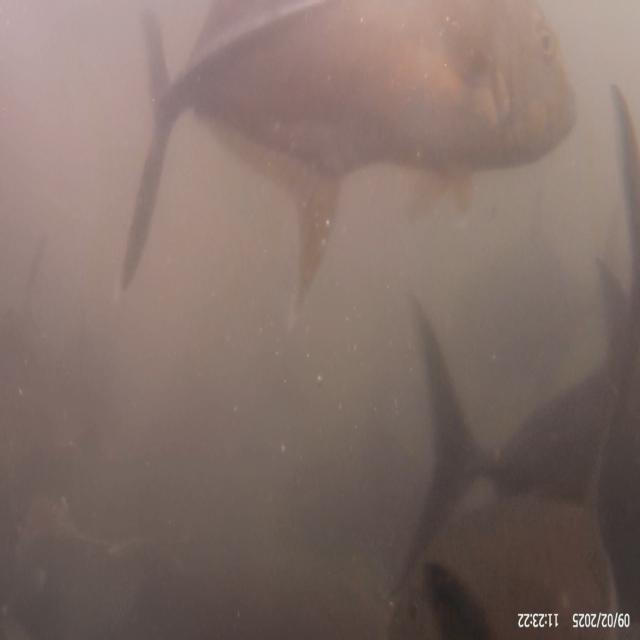ikan: (117, 0, 578, 321), (384, 264, 636, 636)
